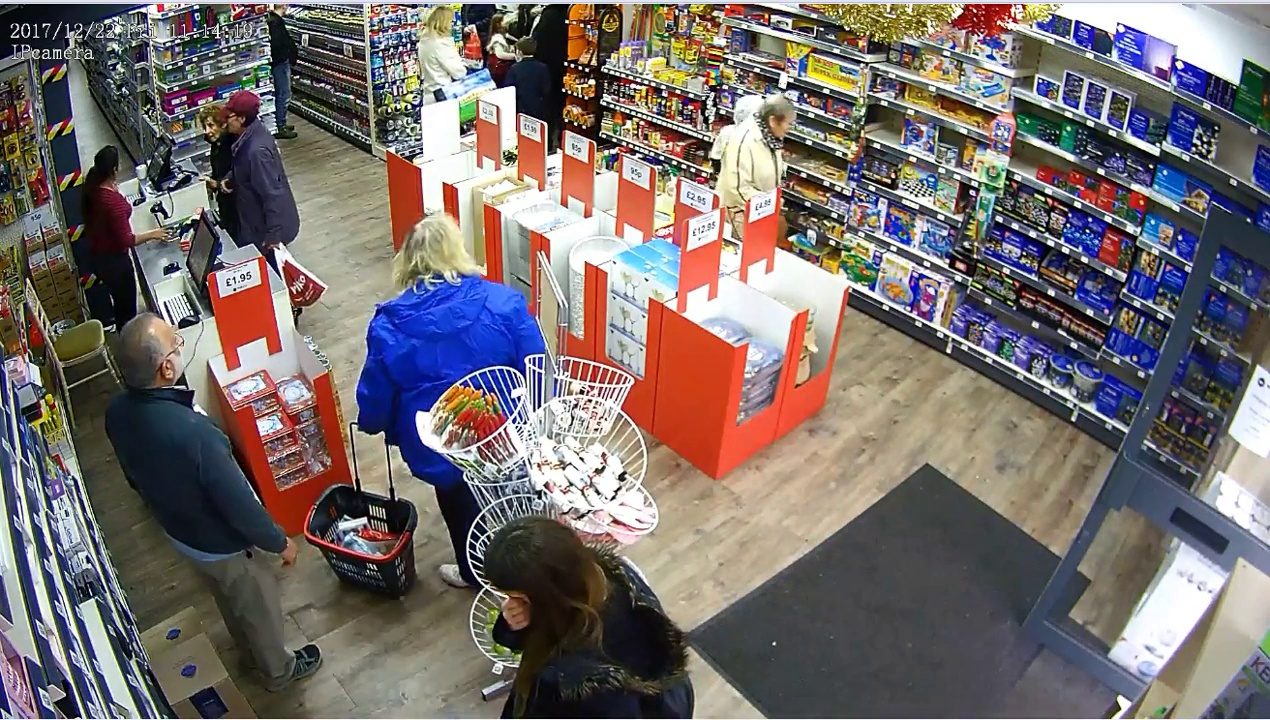face: (199, 112, 221, 143), (774, 106, 794, 140)
